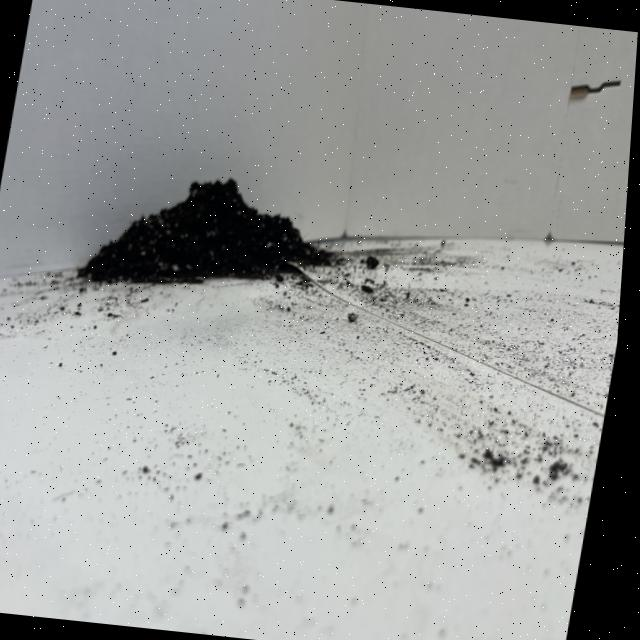soil: (71, 159, 351, 311)
